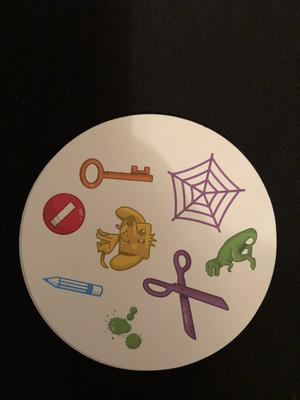chien: (93, 204, 158, 272)
ciseau: (141, 248, 230, 343)
cle: (79, 157, 155, 193)
crayon: (41, 273, 106, 299)
dinosore: (203, 226, 262, 278)
sens_interdit: (40, 189, 87, 237)
tache: (104, 304, 145, 351)
toile: (166, 152, 246, 232)
